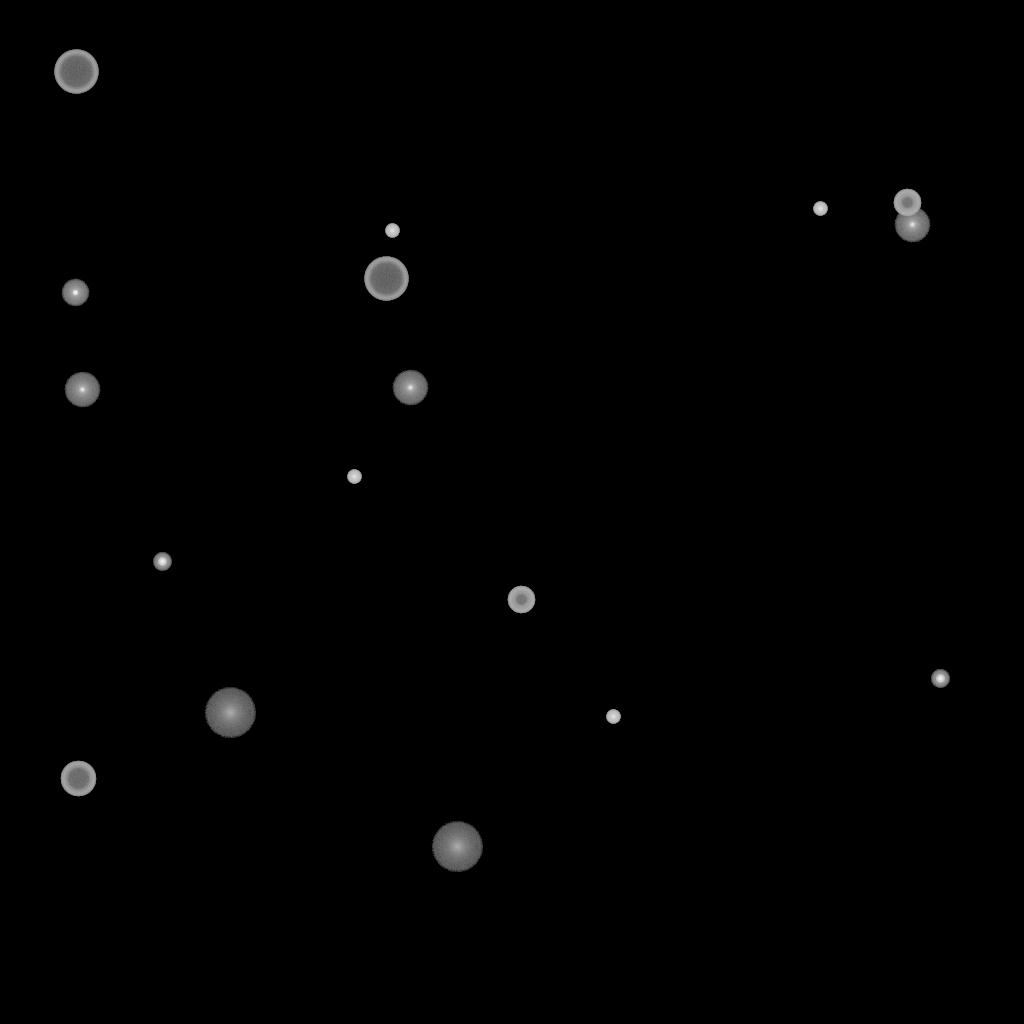depth:-10: (61, 279, 89, 307)
depth:-20: (931, 670, 949, 688), (153, 553, 171, 571)
depth:-30: (385, 224, 399, 238), (347, 470, 361, 484), (606, 710, 620, 724), (813, 202, 827, 216)
depth:-50: (893, 189, 921, 217), (507, 586, 535, 614)
depth:-60: (60, 761, 96, 797)
depth:-70: (364, 257, 408, 301), (54, 50, 98, 94)
depth:0: (64, 372, 100, 408), (894, 207, 930, 243), (392, 370, 428, 406)
depth:20: (431, 822, 483, 872), (204, 688, 256, 738)
